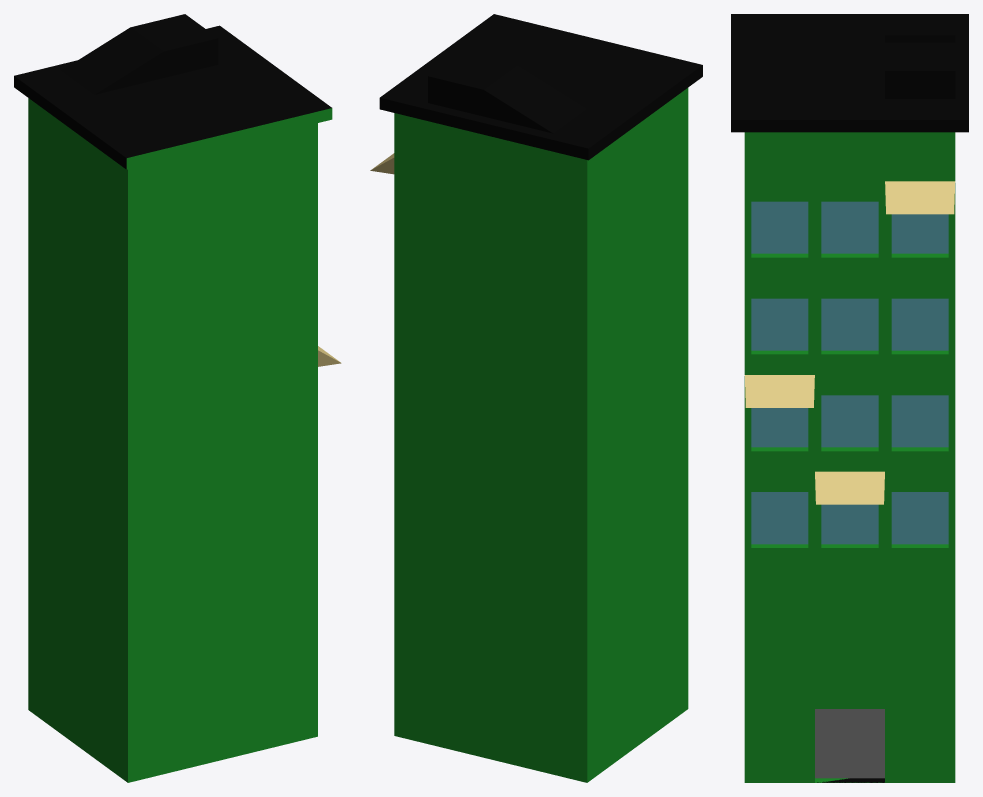
File: house_2.fbx
3 renders of one model, left to right at view 1: azimuth 30°, elevation 25°; view 2: azimuth 150°, elevation 25°; view 3: azimuth 270°, elevation 25°, orthographic. The views are drawn at different scales.
Parts seen in each view (by area): view 1: Building9; view 2: Building9; view 3: Building9.
Part boxes in pixels (box(x1,y1,x2,y2)): Building9: box(14, 14, 341, 782); Building9: box(370, 14, 702, 782); Building9: box(731, 14, 968, 782).
Bounding box in the file's own units: 413 × 1169 × 363.
